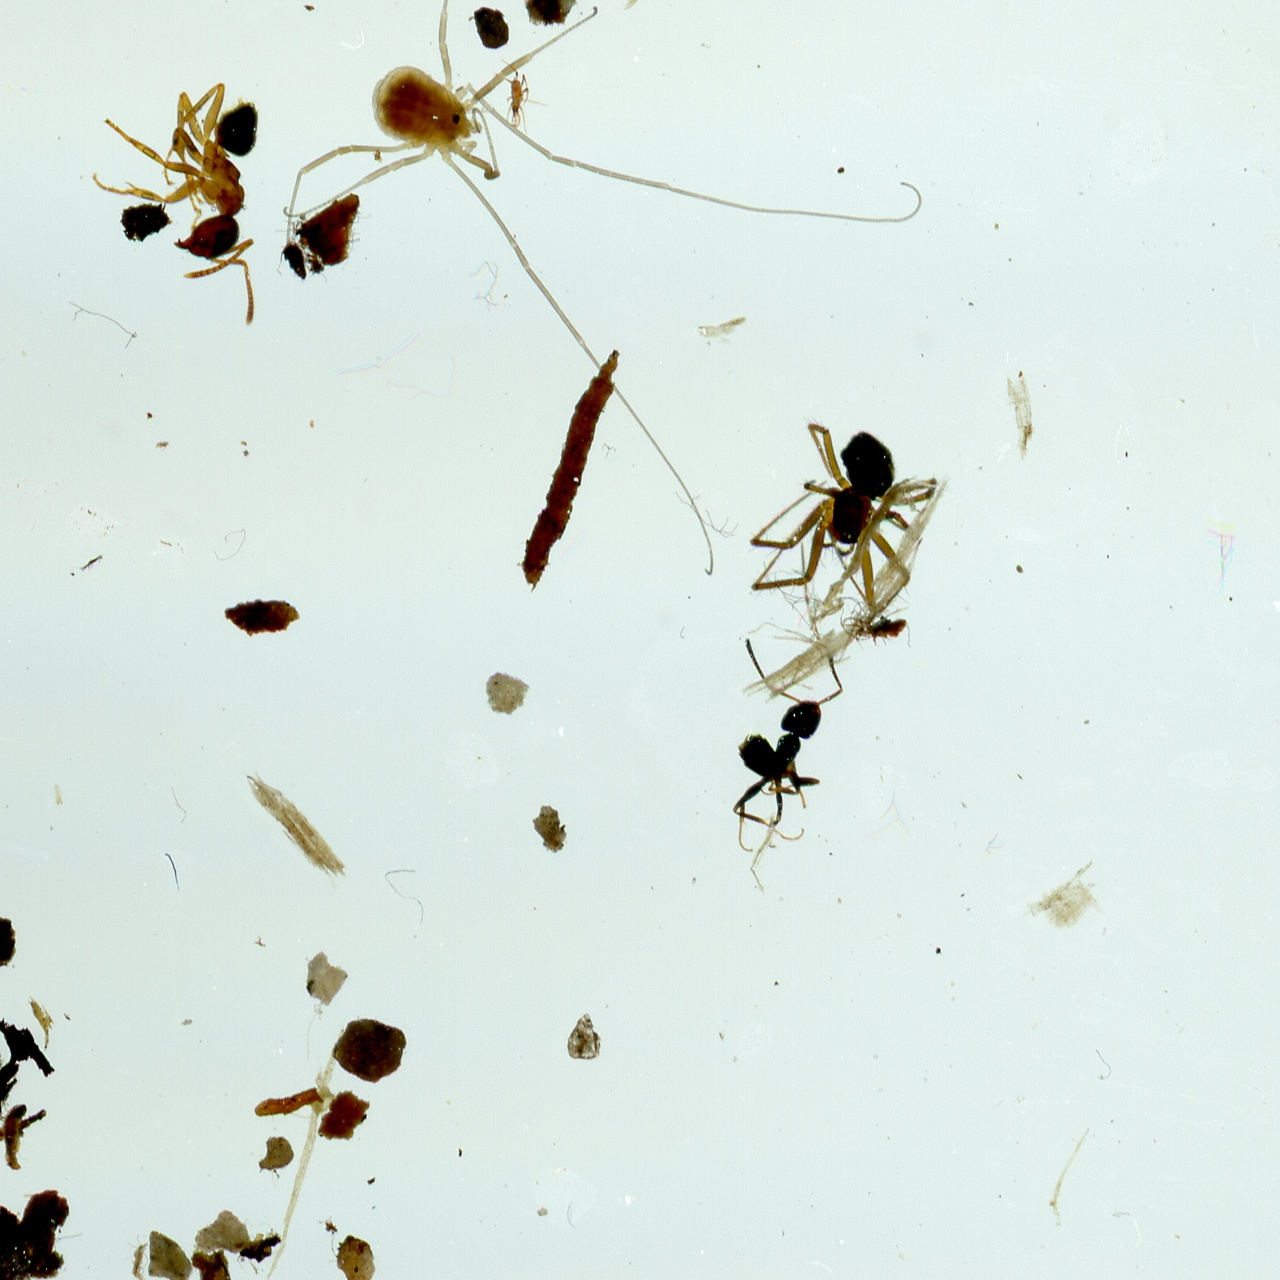arthropod: (213, 0, 955, 588), (731, 401, 952, 644), (89, 79, 264, 329), (729, 633, 846, 857), (493, 56, 552, 136)
